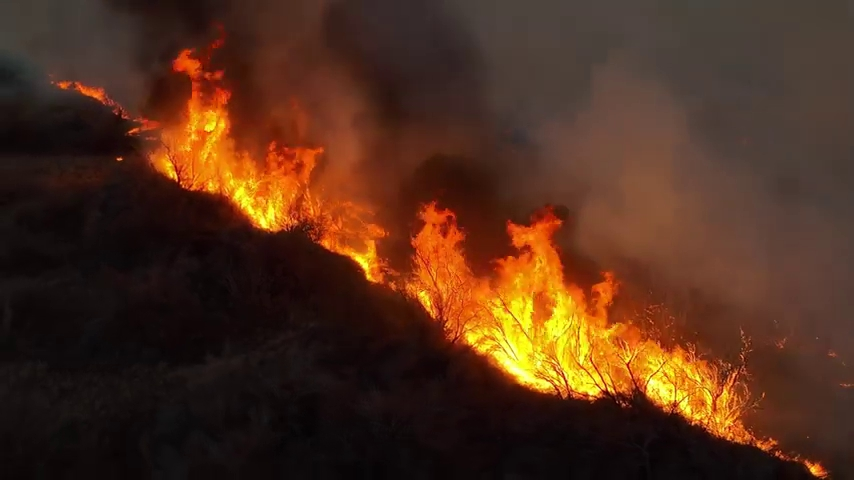forest_fire: (133, 50, 824, 476), (53, 81, 131, 117), (210, 39, 220, 48), (128, 129, 138, 132)
